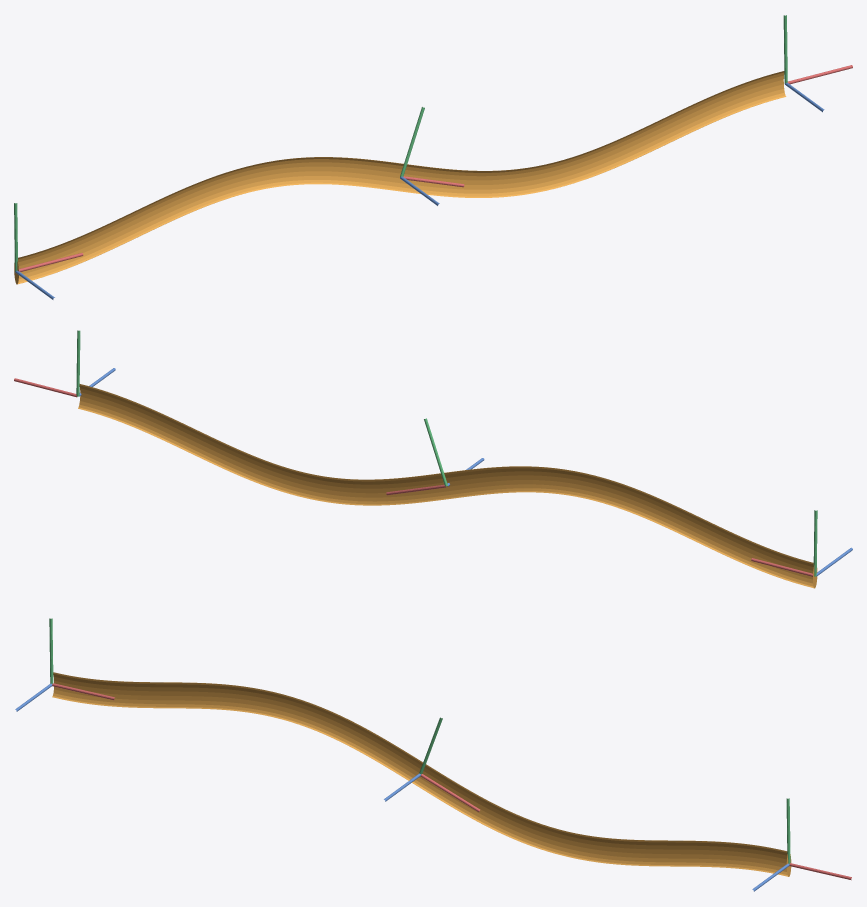
File: dranmar_skin_adhesive_bead_frame_debug.glb
3 renders of one model, top to bottom at view 1: azimuth 30°, elevation 25°; view 2: azimuth 150°, elevation 25°; view 3: azimuth 330°, elevation 25°, orthographic. The views are drawn at different scales.
Visible parts, largest first — view 1: AdhesiveBead_fresh; view 2: AdhesiveBead_fresh; view 3: AdhesiveBead_fresh.
Boxes of the visible parts, x1,y1,x2,y2 form: AdhesiveBead_fresh: (14,71,786,284); AdhesiveBead_fresh: (78,384,817,588); AdhesiveBead_fresh: (52,672,791,876).
Bounding box in the file's own units: 0.0762 × 0.0102 × 0.00637.
